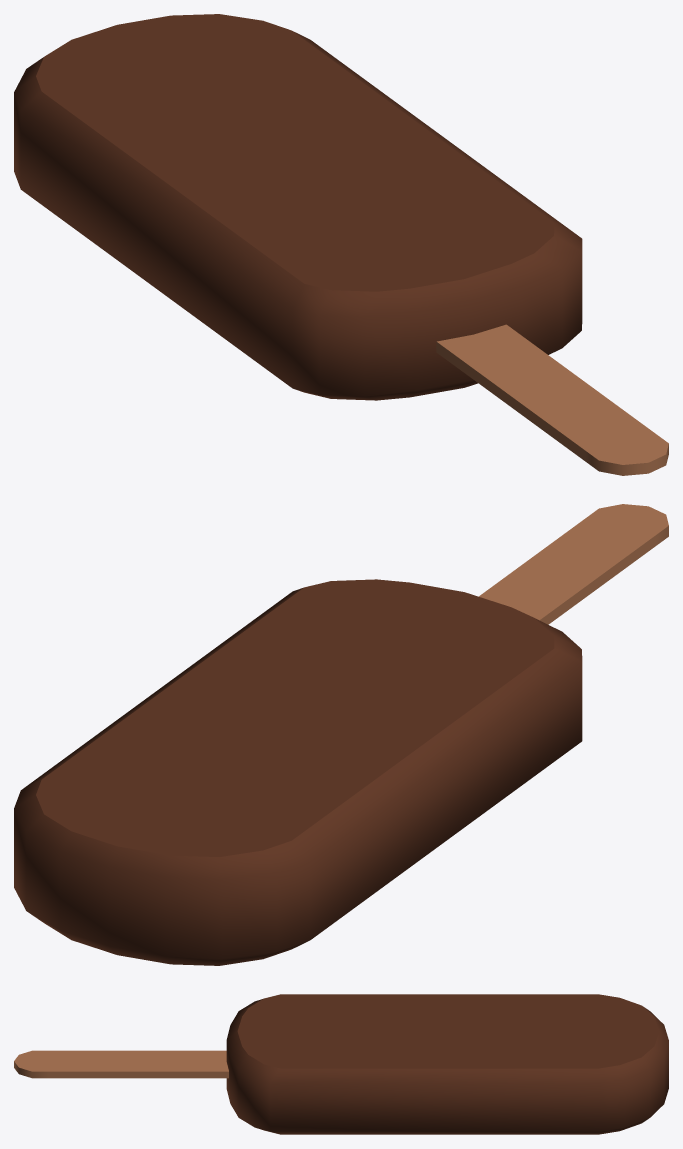
The model's file is IceCream_01.fbx.
3 renders of one model, top to bottom at view 1: azimuth 30°, elevation 25°; view 2: azimuth 150°, elevation 25°; view 3: azimuth 270°, elevation 25°, orthographic. The views are drawn at different scales.
Visible parts, largest first — view 1: IceCream_01; view 2: IceCream_01; view 3: IceCream_01.
Boxes of the visible parts, x1,y1,x2,y2 form: IceCream_01: (14, 14, 668, 475); IceCream_01: (14, 504, 668, 965); IceCream_01: (14, 994, 668, 1134).
Size of the model in its own units: 0.0477 by 0.0171 by 0.1537.
